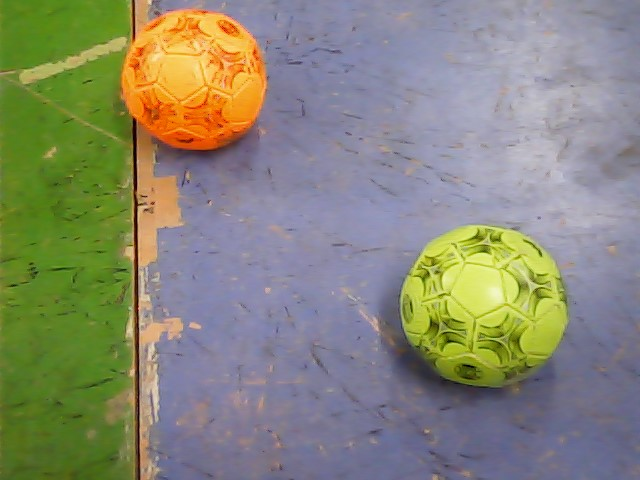Green_ball: (392, 223, 579, 396)
Orange_ball: (117, 8, 274, 153)
